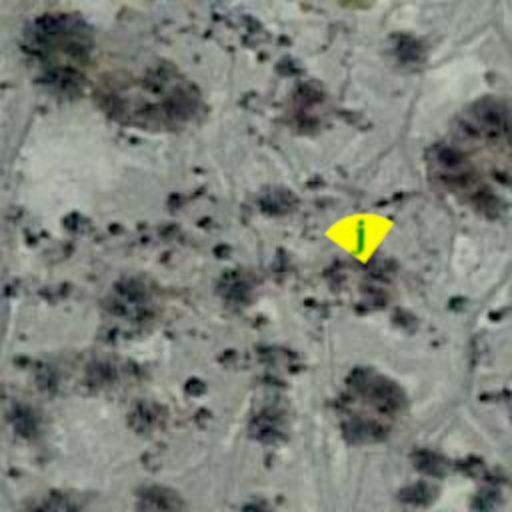quarter_circle: (320, 194, 400, 274)
